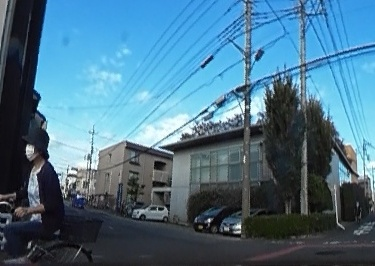person: (1, 126, 64, 266), (354, 200, 362, 227)
